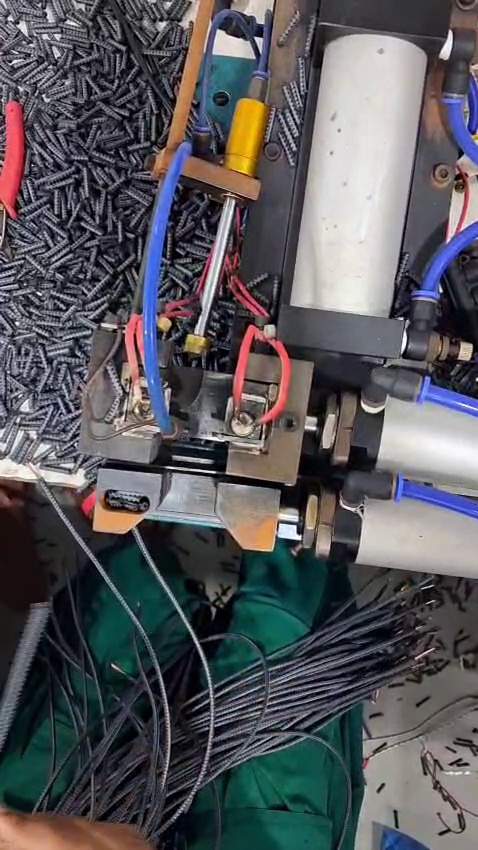intact_wire: (15, 576, 73, 684)
machine: (71, 315, 334, 540)
